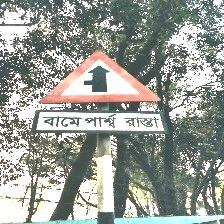Side-road-left: (33, 50, 167, 136)
